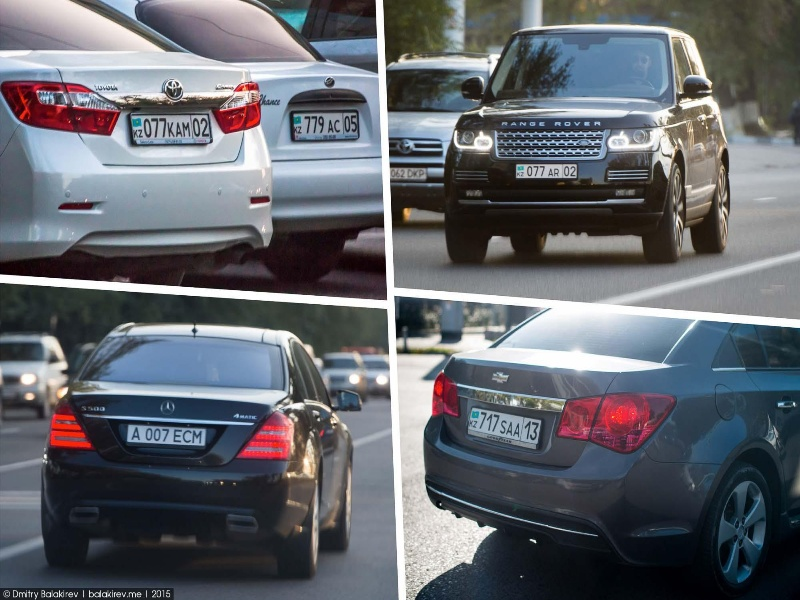car: (424, 308, 800, 588), (42, 320, 355, 578), (98, 1, 383, 283), (1, 1, 272, 263), (443, 25, 732, 260), (386, 52, 502, 221), (1, 332, 67, 418), (322, 351, 364, 397), (362, 354, 390, 400)
person: (628, 47, 654, 82)
plate: (466, 407, 542, 449), (128, 114, 211, 146), (126, 423, 206, 447), (291, 111, 359, 139), (515, 164, 576, 179), (390, 168, 426, 181)
